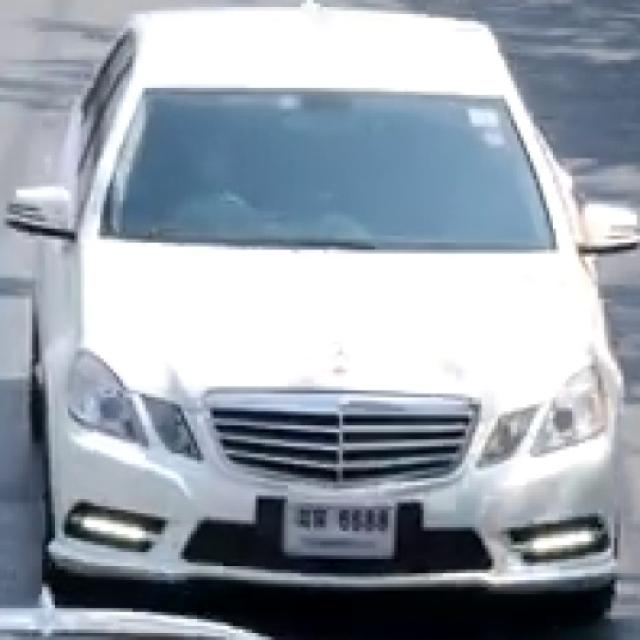plate: (283, 494, 396, 560)
